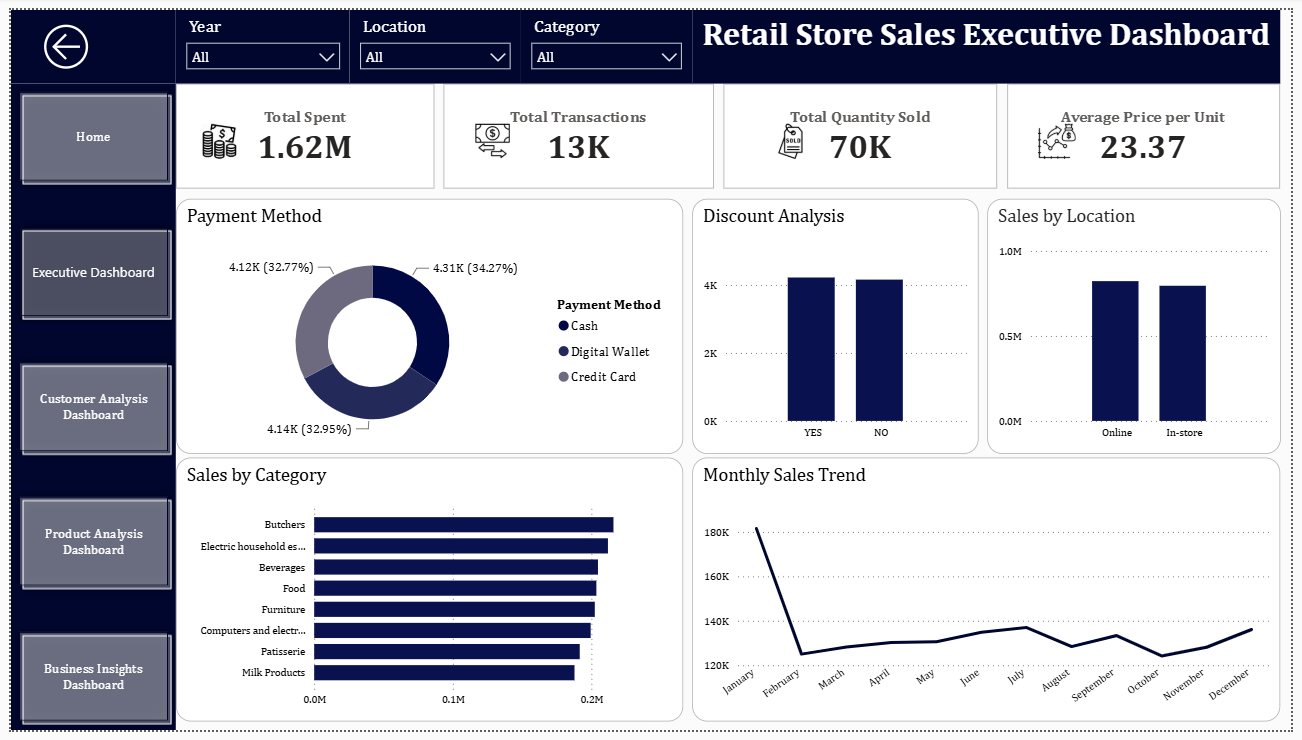

The page's visual inventory and layout, read from the dashboard file:
{"tool":"powerbi","page":{"name":"Executive Dashboard","canvas":[1280,720],"ordinal":1},"visuals":[{"type":"cardVisual","fields":{"Data":["Sum(Retail_Sales.Total Spent)"]},"box":[165.1,73.4,258,105.2],"z":0},{"type":"cardVisual","fields":{"Data":["Retail_Sales.Total Transactions"]},"box":[432.9,73.4,270.2,105.2],"z":1000},{"type":"cardVisual","fields":{"Data":["Retail_Sales.Total Quantity Sold"]},"box":[712.9,73.4,273.9,105.2],"z":2000},{"type":"cardVisual","fields":{"Data":["Retail_Sales.Average Price per Unit"]},"box":[996.6,73.4,272.7,105.2],"z":3000},{"type":"lineChart","title":"Monthly Sales Trend","fields":{"Category":["Retail_Sales.Transaction Date.Variation.Date Hierarchy.Month"],"Y":["Sum(Retail_Sales.Total Spent)"]},"box":[681.1,447.6,588.2,264.1],"z":4000},{"type":"clusteredBarChart","title":"Sales by Category","fields":{"Category":["Retail_Sales.Category"],"Y":["Sum(Retail_Sales.Total Spent)"]},"box":[165.1,447.6,507.5,264.1],"z":5000},{"type":"clusteredColumnChart","title":"Sales by Location","fields":{"Category":["Retail_Sales.Location"],"Y":["Sum(Retail_Sales.Total Spent)"]},"box":[975.8,188.3,293.5,255.6],"z":6000},{"type":"slicer","fields":{"Values":["Retail_Sales.Transaction Date.Variation.Date Hierarchy.Year"]},"box":[165.1,0,173.6,73.4],"z":7000},{"type":"slicer","fields":{"Values":["Retail_Sales.Category"]},"box":[509.9,0,171.2,73.4],"z":8000},{"type":"slicer","fields":{"Values":["Retail_Sales.Location"]},"box":[338.7,0,171.2,73.4],"z":9000},{"type":"donutChart","title":"Payment Method","fields":{"Category":["Retail_Sales.Payment Method"],"Y":["CountNonNull(Retail_Sales.Transaction ID)"]},"box":[165.1,188.3,507.5,255.6],"z":10000},{"type":"clusteredColumnChart","title":"Discount Analysis","fields":{"Category":["Retail_Sales.Discount Applied"],"Y":["CountNonNull(Retail_Sales.Transaction ID)"]},"box":[681.1,188.3,286.1,255.6],"z":11000},{"type":"textbox","box":[681.1,0,588.2,73.4],"z":12000},{"type":"image","box":[752,113.7,53.8,35.5],"z":13000},{"type":"image","box":[181,113.7,52.6,35.5],"z":14000},{"type":"image","box":[1026,113.7,39.1,35.5],"z":15000},{"type":"image","box":[458.6,113.7,45.2,34.2],"z":16000},{"type":"pageNavigator","box":[0,73.4,165.1,646.9],"z":17000},{"type":"actionButton","box":[0,0,165.1,73.4],"z":18000}]}

Visuals, with their boxes in screenshot pixels (x1, y1, x2, y2), scaled from the page's 1280x720 canvas onto the 1302x740 screenshot:
cardVisual - Sum(Retail_Sales.Total Spent): bbox(168, 75, 430, 184)
cardVisual - Retail_Sales.Total Transactions: bbox(440, 75, 715, 184)
cardVisual - Retail_Sales.Total Quantity Sold: bbox(725, 75, 1004, 184)
cardVisual - Retail_Sales.Average Price per Unit: bbox(1014, 75, 1291, 184)
"Monthly Sales Trend" lineChart: bbox(693, 460, 1291, 731)
"Sales by Category" clusteredBarChart: bbox(168, 460, 684, 731)
"Sales by Location" clusteredColumnChart: bbox(993, 194, 1291, 456)
slicer - Retail_Sales.Transaction Date.Variation.Date Hierarchy.Year: bbox(168, 0, 345, 75)
slicer - Retail_Sales.Category: bbox(519, 0, 693, 75)
slicer - Retail_Sales.Location: bbox(345, 0, 519, 75)
"Payment Method" donutChart: bbox(168, 194, 684, 456)
"Discount Analysis" clusteredColumnChart: bbox(693, 194, 984, 456)
textbox: bbox(693, 0, 1291, 75)
image: bbox(765, 117, 820, 153)
image: bbox(184, 117, 238, 153)
image: bbox(1044, 117, 1083, 153)
image: bbox(466, 117, 512, 152)
pageNavigator: bbox(0, 75, 168, 739)
actionButton: bbox(0, 0, 168, 75)
